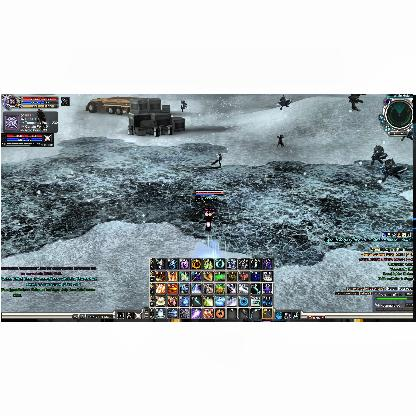caliana: (210, 152, 224, 168), (276, 134, 284, 148)
